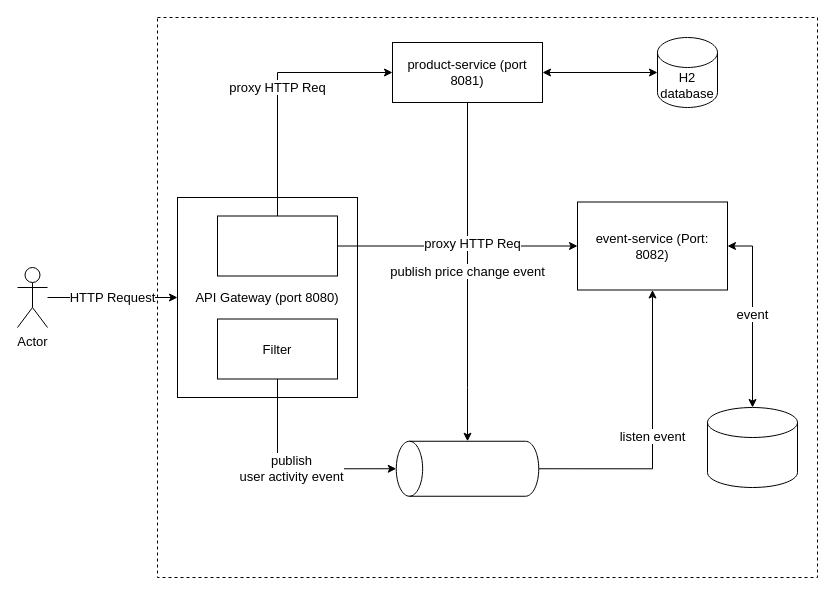
Image size: 835x595. Some labels were removed from this diagram. Here are the shapes that lost their labels. From the top down, the centre of each, then its label:
At pixel 277 245: "service routing".
At pixel 752 447: "event store (elasticsearch)".
At pixel 467 468: "activemq (message broker)".
